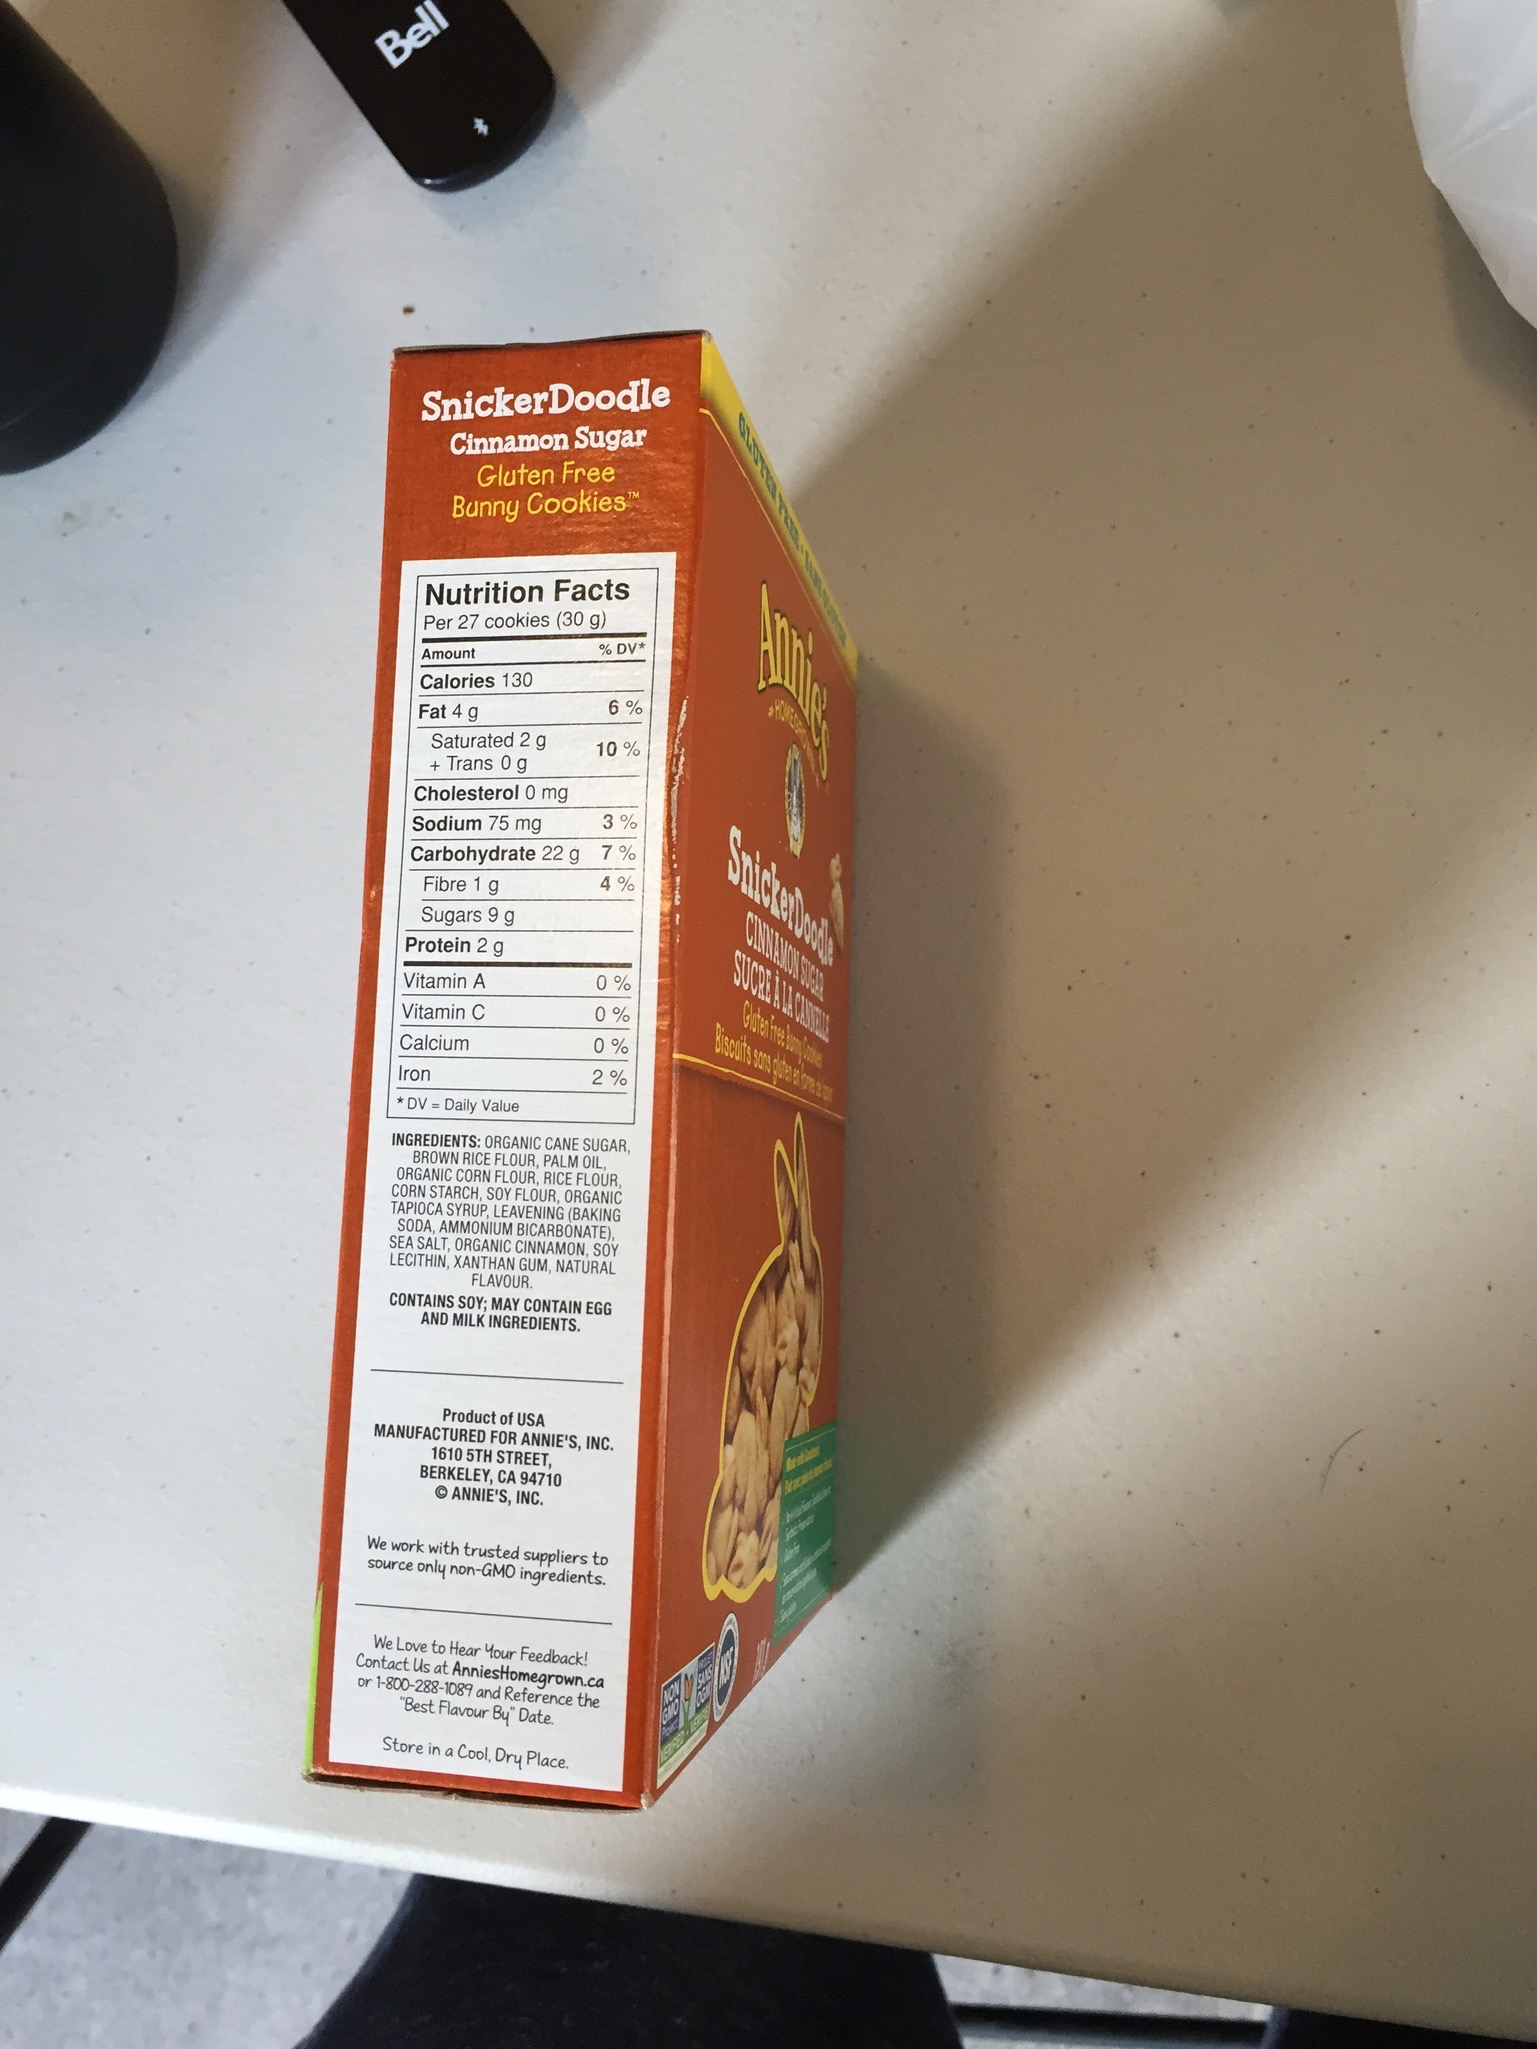annies_snickerdoodles_cinnamon_sugar: (397, 371, 688, 1749)
